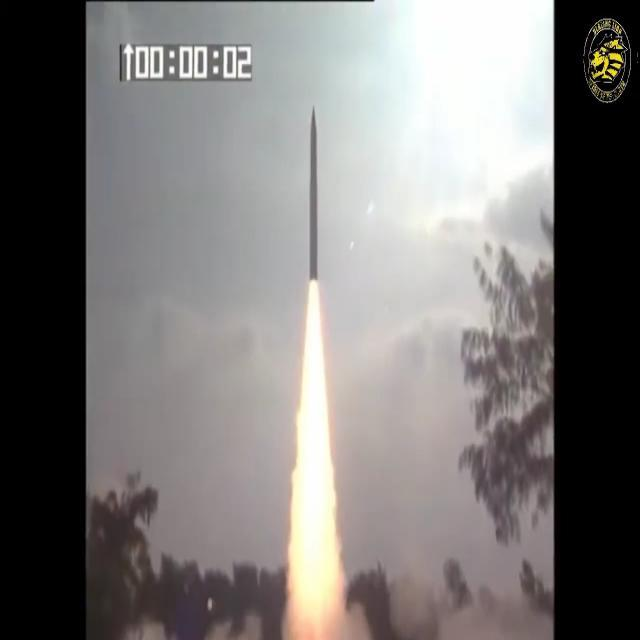Missile: (304, 98, 320, 294)
